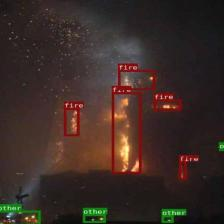fire: (111, 92, 141, 173), (118, 69, 154, 90), (63, 107, 79, 136), (154, 99, 180, 110), (179, 162, 186, 180)
